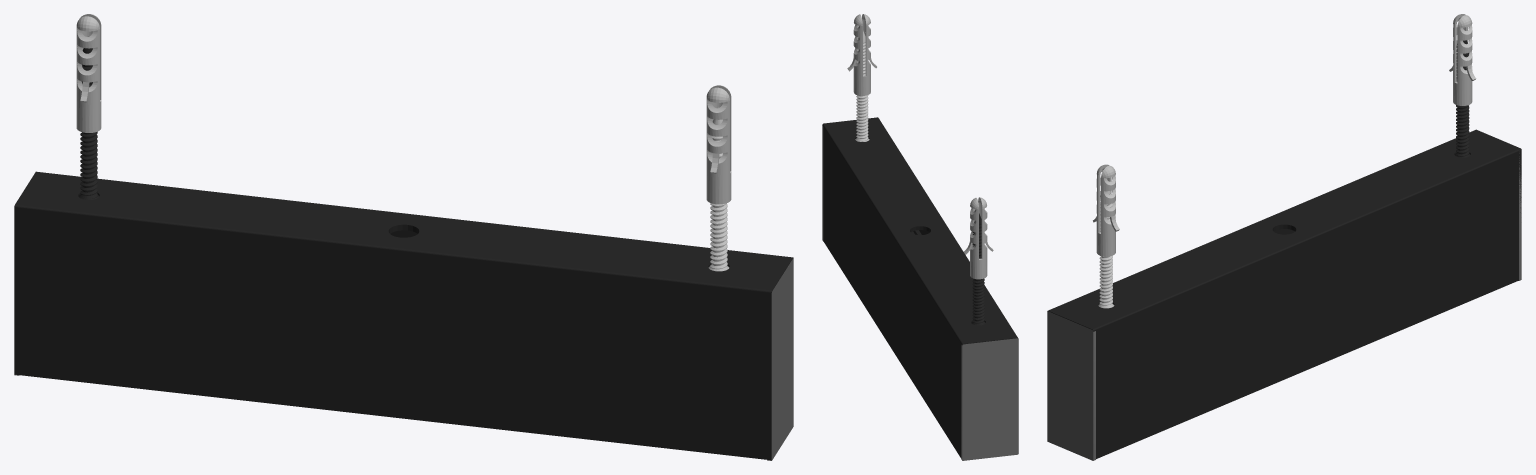
3 renders of one model, left to right at view 1: azimuth 30°, elevation 25°; view 2: azimuth 150°, elevation 25°; view 3: azimuth 270°, elevation 25°, orthographic. The views are drawn at different scales.
Visible parts, largest first — view 1: 3DGeom-2.004; view 2: 3DGeom-2.004; view 3: 3DGeom-2.004.
Boxes of the visible parts, box(x1,y1,x2,y2) form: 3DGeom-2.004: box(14, 14, 793, 460); 3DGeom-2.004: box(822, 14, 1018, 460); 3DGeom-2.004: box(1047, 14, 1521, 460).
Size of the model in its own units: 0.0987 by 0.0621 by 0.0987.
Materials: 8 (2 with a texture image).
